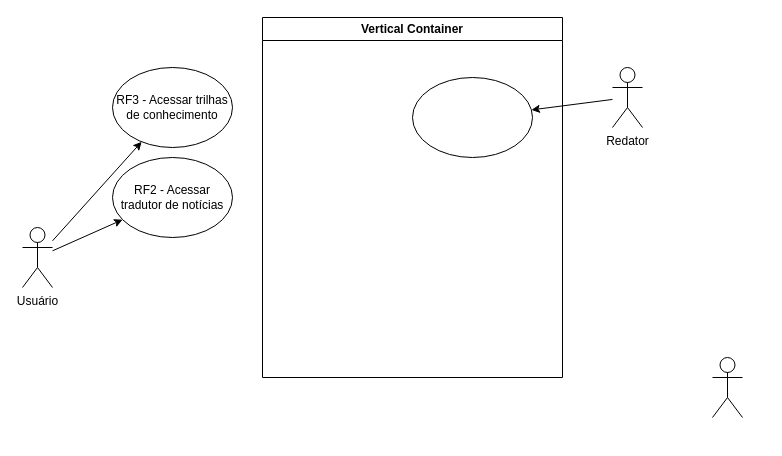
Some shapes in this 782 by 456 pixel diagram are drawn without their labels. The box of each missing label's shape, as (x1, y1, x2, y2) in pixels:
Administrador: (712, 356, 742, 418)
Cria conteúdo das trilhas e notícias: (412, 76, 532, 158)
